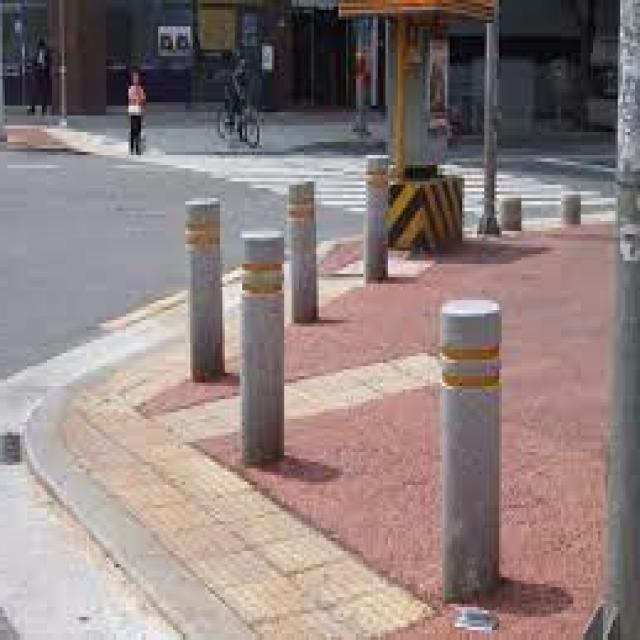bollard: (423, 288, 511, 609), (238, 225, 290, 475), (180, 190, 227, 385), (286, 166, 322, 340), (355, 146, 396, 292), (498, 186, 526, 239), (557, 184, 583, 230)
